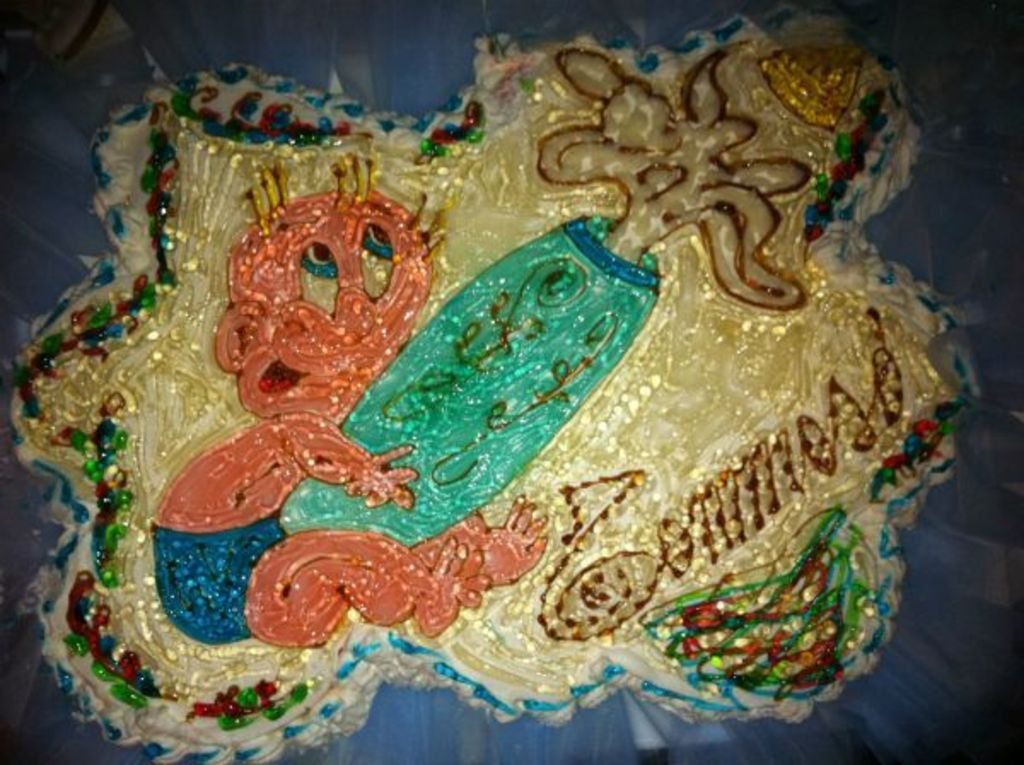cake: (0, 0, 1022, 763)
